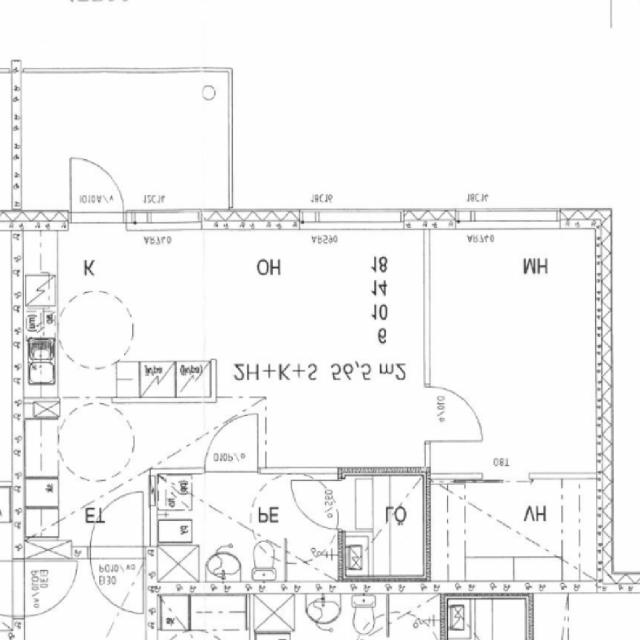door: (70, 150, 126, 229), (89, 546, 144, 617), (89, 490, 144, 560), (206, 412, 258, 473), (426, 388, 482, 441), (291, 480, 347, 530)
